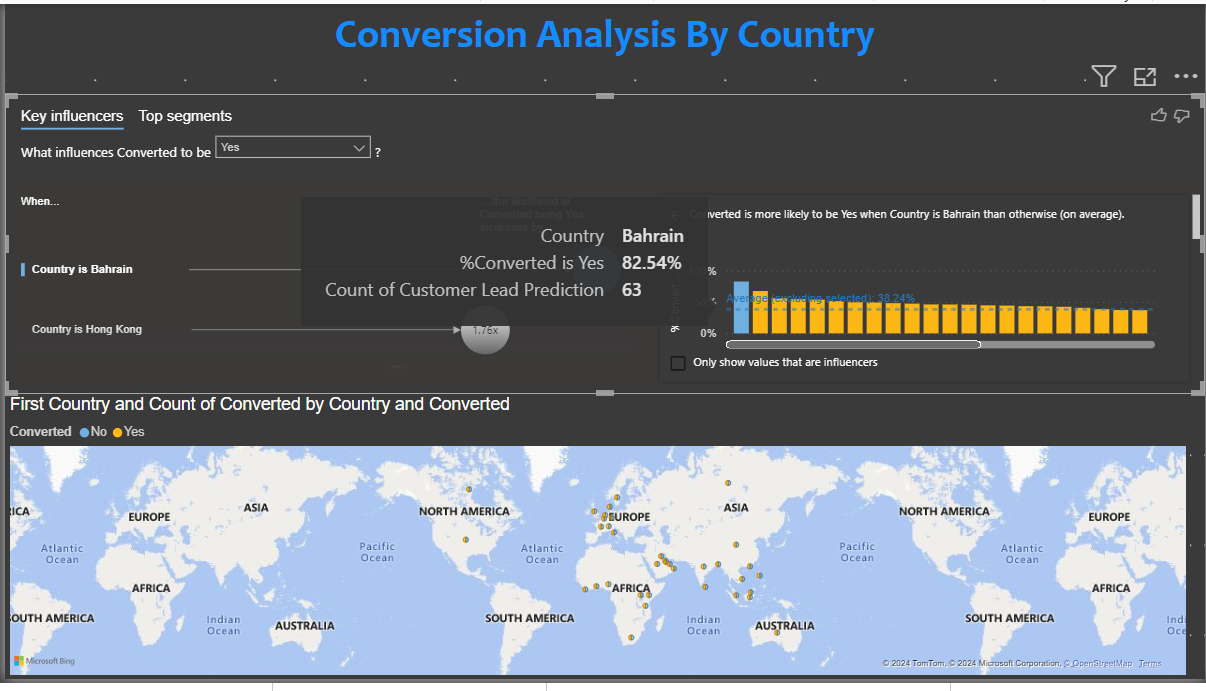

Layout of this report page (visuals, bound fields, positions):
{"tool":"powerbi","page":{"name":"Conversion Analysis by Country","canvas":[1280,720],"ordinal":5},"visuals":[{"type":"map","fields":{"Category":["Customer Lead Prediction.Country"],"Series":["Customer Lead Prediction.Converted"],"Y":["Min(Customer Lead Prediction.Country)"]},"box":[0,416,1264,304],"z":0},{"type":"keyDriversVisual","fields":{"Target":["Customer Lead Prediction.Converted"],"ExplainBy":["Customer Lead Prediction.Country","Customer Lead Prediction.City"]},"box":[0,96,1280,320],"z":1000},{"type":"textbox","box":[0,0,1280,80],"z":2000}]}

Visuals, with their boxes on the page's 1280x720 design canvas (x1, y1, x2, y2). These are canvas units, not pixel positions in the 1206x691 screenshot, which may show the page scaled, cropped or inside an application window:
map - Customer Lead Prediction.Country x Customer Lead Prediction.Converted: pyautogui.locateOnScreen(0, 416, 1264, 720)
keyDriversVisual - Customer Lead Prediction.Converted x Customer Lead Prediction.Country: pyautogui.locateOnScreen(0, 96, 1280, 416)
textbox: pyautogui.locateOnScreen(0, 0, 1280, 80)
